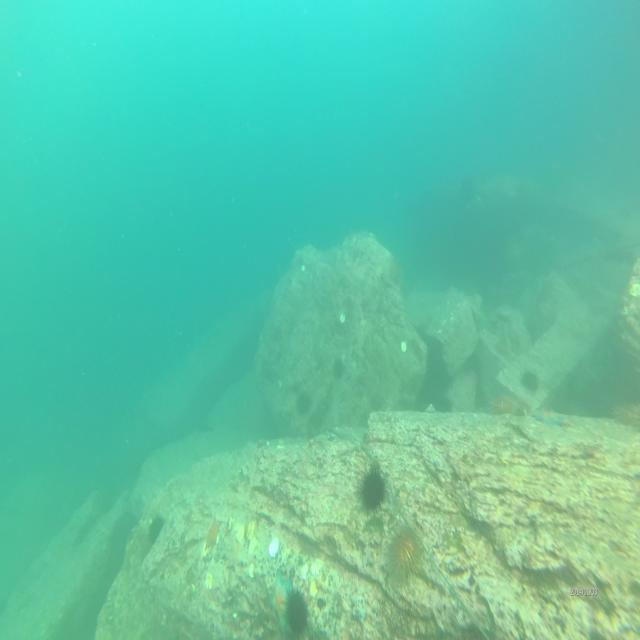echinus: (387, 523, 420, 585), (358, 463, 388, 512), (284, 588, 308, 634), (489, 390, 518, 422), (146, 516, 168, 546), (295, 387, 311, 417), (522, 370, 538, 396), (332, 357, 344, 379)
starfish: (264, 572, 295, 622), (531, 406, 561, 425)
